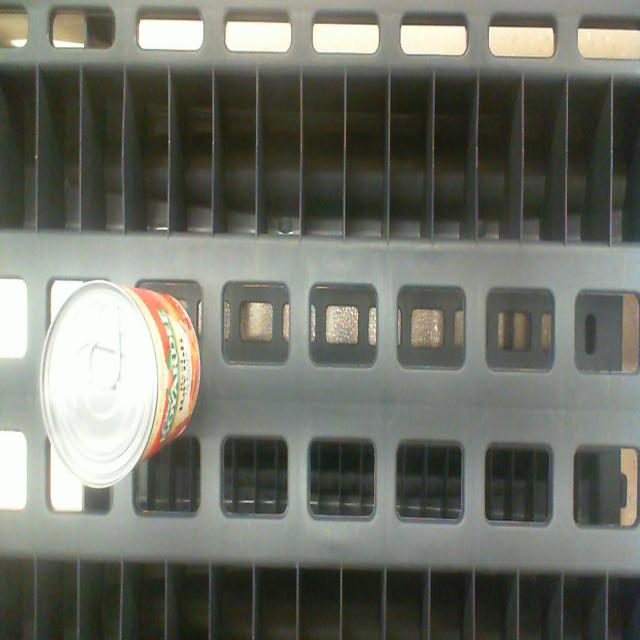can: (41, 280, 158, 484)
